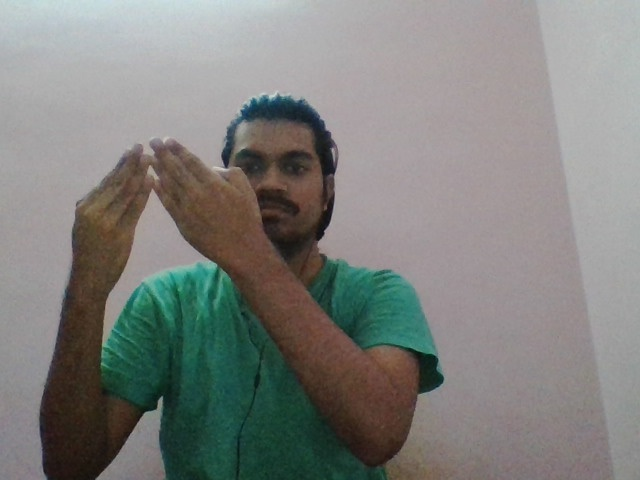ThankYou: (71, 136, 261, 274)
